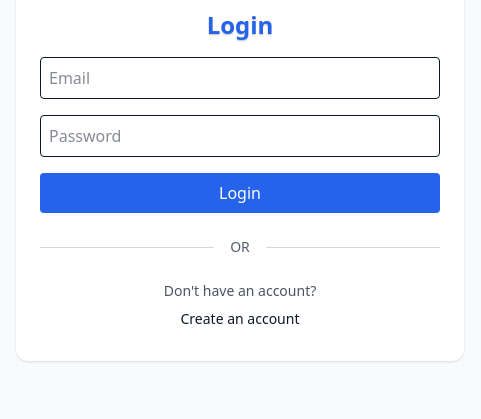
Test: Login page › shows error message when auth fails
The width and height of the screenshot is (481, 419).
In the field with test id "email-input": (240, 78) x1=40 y1=57 x2=440 y2=99, type "me@example.com"
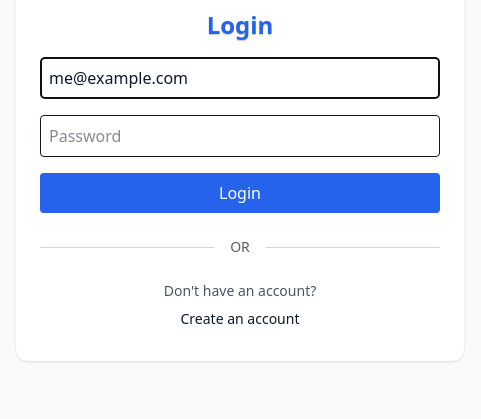
In the password field with test id "password-input": (240, 136) x1=40 y1=115 x2=440 y2=157, type "bad"
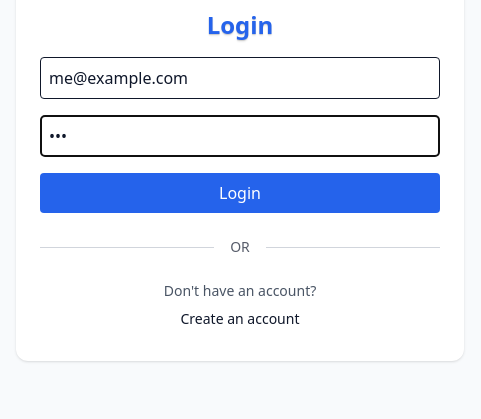
Click the button with test id "login-btn": (240, 193) x1=40 y1=173 x2=440 y2=213
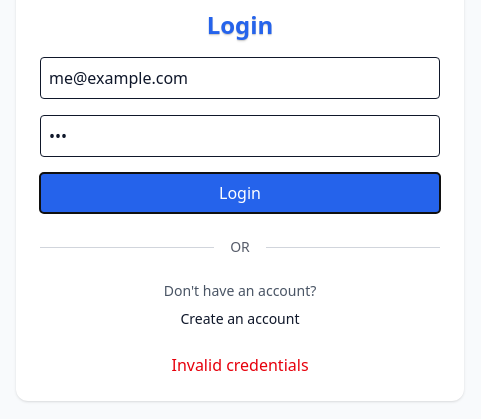
Result: the text with test id "auth-error" reads "Invalid credentials" at x1=172 y1=354 x2=309 y2=376
